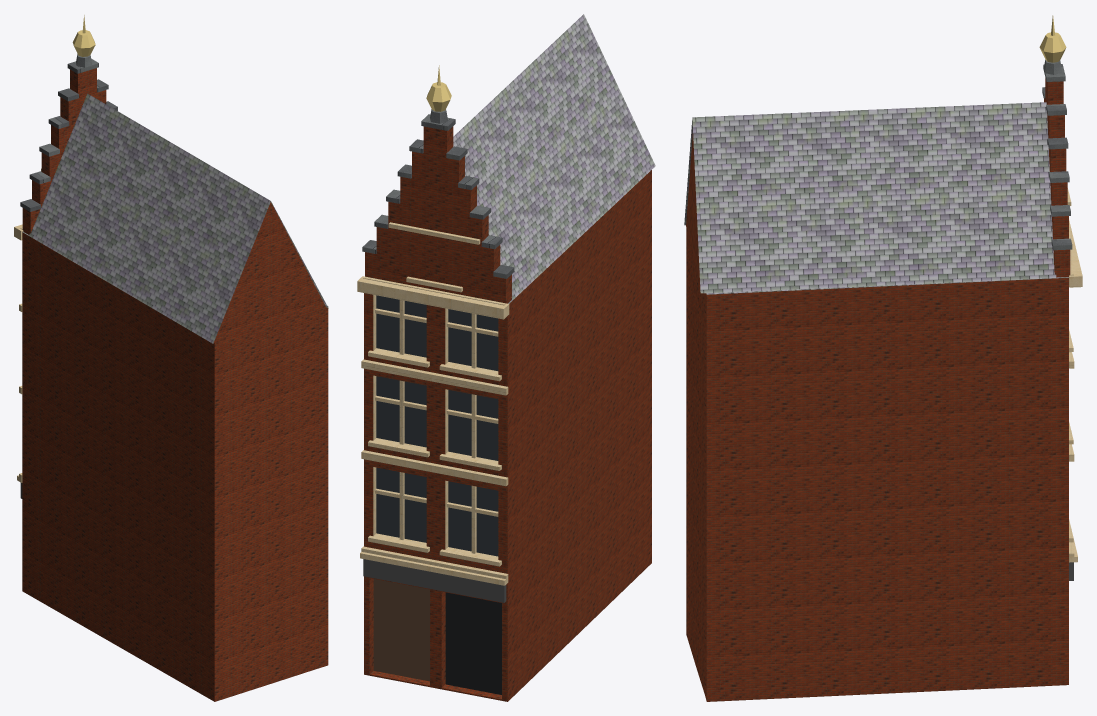
3 renders of one model, left to right at view 1: azimuth 30°, elevation 25°; view 2: azimuth 150°, elevation 25°; view 3: azimuth 270°, elevation 25°, orthographic. The views are drawn at different scales.
Parts seen in each view (by area): view 1: bldg_496944394_landmark; view 2: bldg_496944394_landmark; view 3: bldg_496944394_landmark.
Part boxes in pixels (bbox=[...]): bldg_496944394_landmark: bbox=[14, 15, 328, 701]; bldg_496944394_landmark: bbox=[357, 14, 655, 701]; bldg_496944394_landmark: bbox=[684, 15, 1082, 701].
Size of the model in its own units: 6.35 by 21.9 by 12.41.
Materials: 9 (4 with a texture image).
